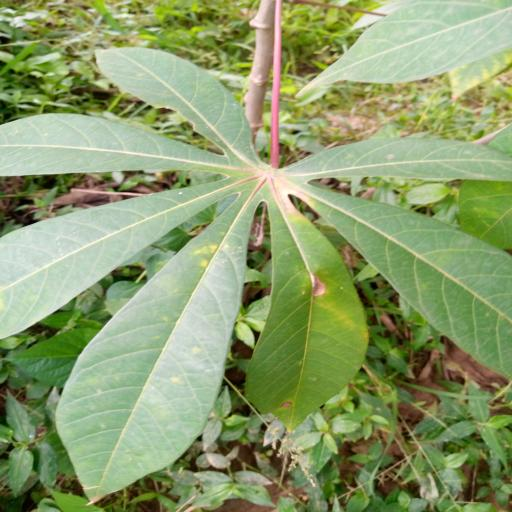Cassava_Brown_Leaf_Spot: (3, 41, 512, 497)
